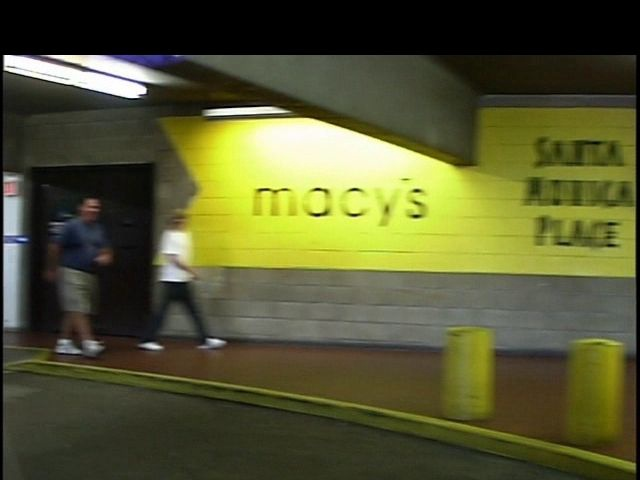person: (129, 197, 217, 366), (36, 186, 107, 364)
